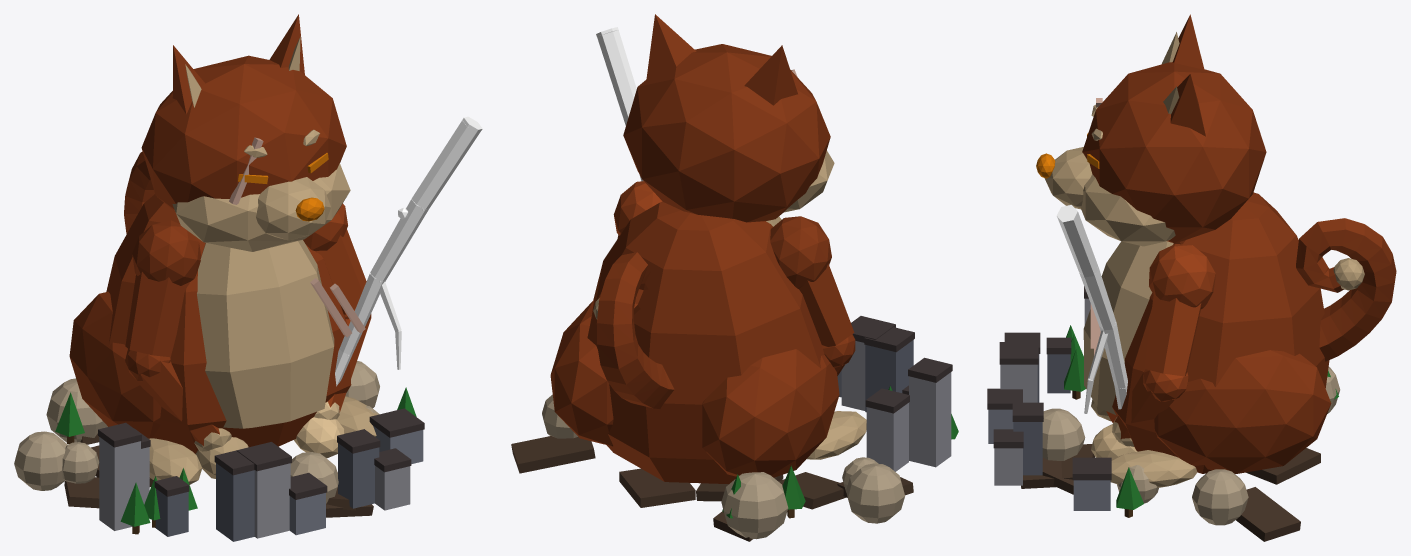
File: GiantShiba.fbx
3 renders of one model, left to right at view 1: azimuth 30°, elevation 25°; view 2: azimuth 150°, elevation 25°; view 3: azimuth 270°, elevation 25°, orthographic. The views are drawn at different scales.
Parts seen in each view (by area): view 1: Body, Stick, ThrowArm; view 2: Body, Stick, ThrowArm; view 3: Body, ThrowArm, Stick.
Boxes of the visible parts, x1,y1,x2,y2 form: Body: (14, 14, 424, 541); Stick: (335, 116, 482, 386); ThrowArm: (294, 203, 371, 458); Body: (511, 14, 958, 541); Stick: (596, 27, 643, 181); ThrowArm: (613, 181, 662, 238); Body: (987, 14, 1396, 541); ThrowArm: (1091, 244, 1215, 458); Stick: (1056, 205, 1127, 413).
Size of the model in its own units: 1.25 by 1.36 by 1.2.
